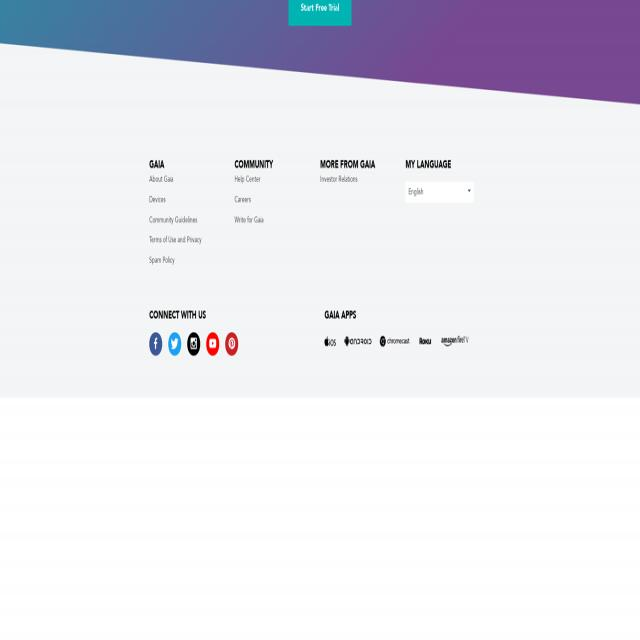button: (288, 0, 352, 26), (168, 332, 182, 355), (206, 332, 220, 355), (149, 332, 162, 356), (380, 336, 409, 346), (188, 332, 200, 356), (226, 332, 238, 356), (344, 336, 372, 346), (442, 336, 468, 346), (418, 336, 432, 346), (324, 336, 336, 346)
field: (406, 182, 474, 204)
